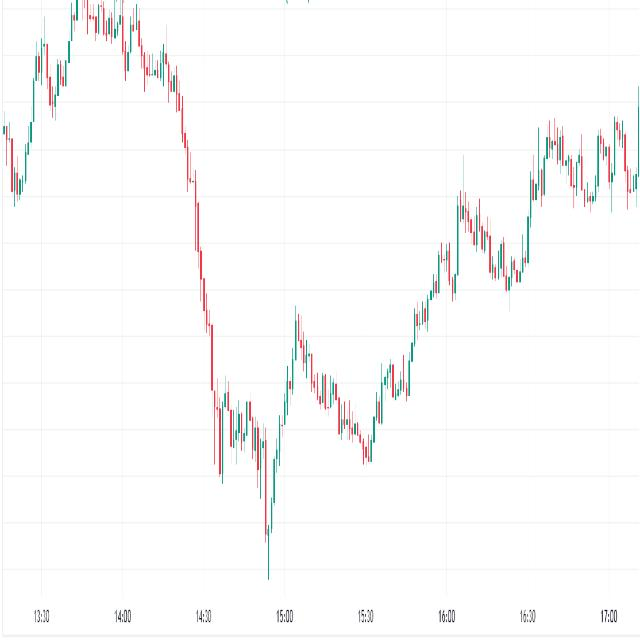Channel-down: (276, 294, 386, 491)
Descending-Triangle: (455, 159, 544, 294)
Triangle: (206, 348, 283, 529)
rectangle: (526, 113, 640, 210)
